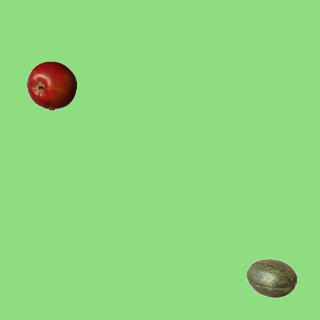Apple Braeburn: (26, 60, 76, 110)
Melon Piel de Sapo: (246, 253, 296, 303)
